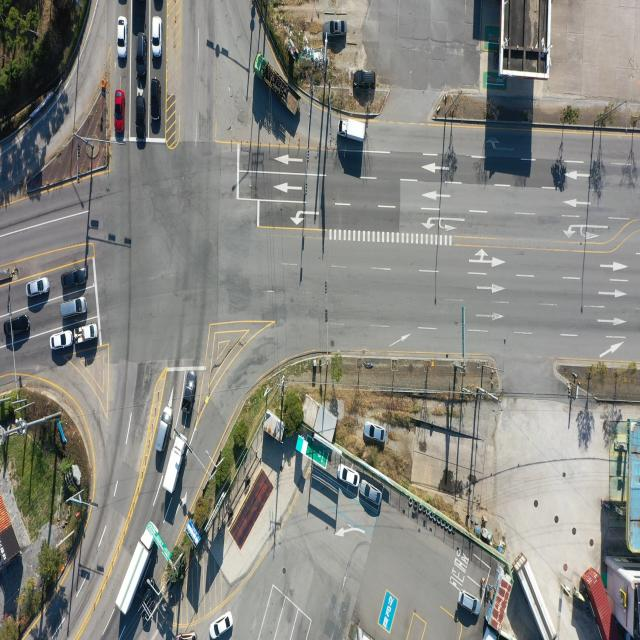car: (157, 407, 174, 452), (182, 371, 197, 414), (211, 612, 234, 640), (116, 88, 128, 139), (142, 576, 154, 626), (457, 591, 479, 617), (362, 482, 384, 507), (61, 299, 88, 319), (137, 33, 148, 80), (338, 464, 361, 486), (62, 269, 88, 288), (5, 316, 29, 336), (150, 80, 160, 127), (26, 278, 49, 298), (136, 97, 146, 139), (363, 423, 385, 442), (51, 332, 74, 350), (116, 17, 126, 57), (354, 69, 376, 86), (152, 18, 161, 56), (328, 20, 348, 36), (176, 630, 195, 640), (153, 0, 161, 11), (118, 0, 126, 5)
medium_truck: (117, 521, 159, 615), (519, 554, 561, 638), (251, 56, 300, 116), (165, 434, 190, 497), (339, 118, 367, 142)
small_truck: (74, 322, 97, 342)
